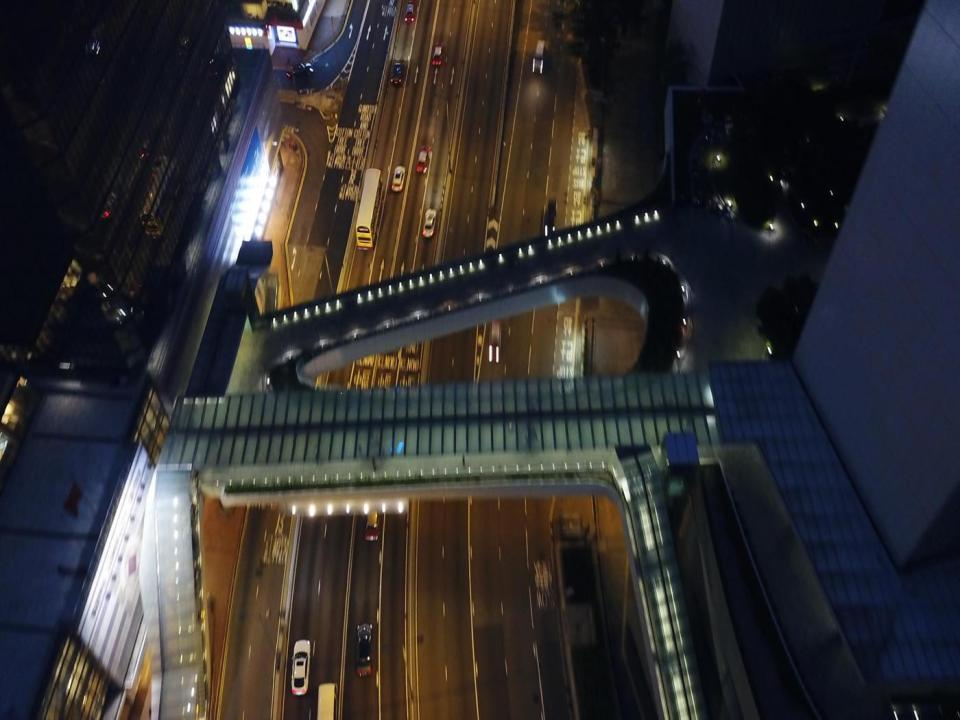bus: (355, 169, 384, 249), (317, 682, 338, 719)
car: (291, 640, 310, 695), (356, 623, 372, 676), (488, 316, 500, 363), (366, 499, 379, 540), (545, 200, 556, 240), (416, 145, 430, 173), (422, 209, 436, 236), (392, 166, 405, 191), (391, 59, 404, 84), (432, 42, 443, 65), (404, 2, 415, 21)
van: (532, 40, 545, 73)
